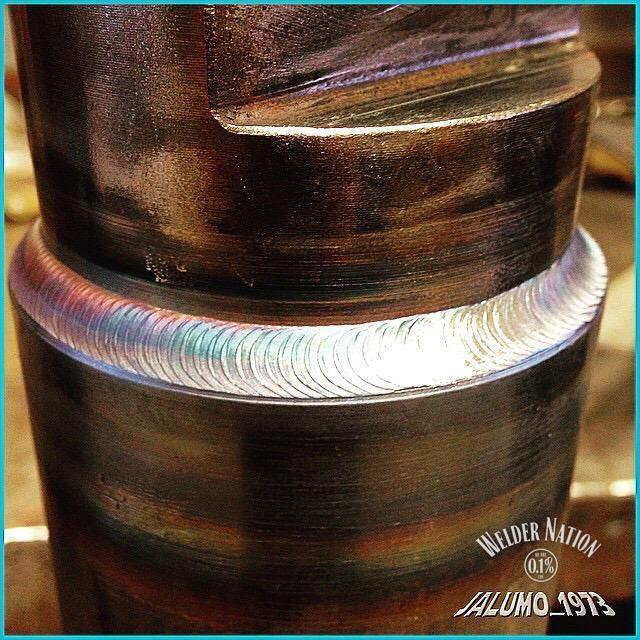Good Welding: (84, 289, 589, 385)
